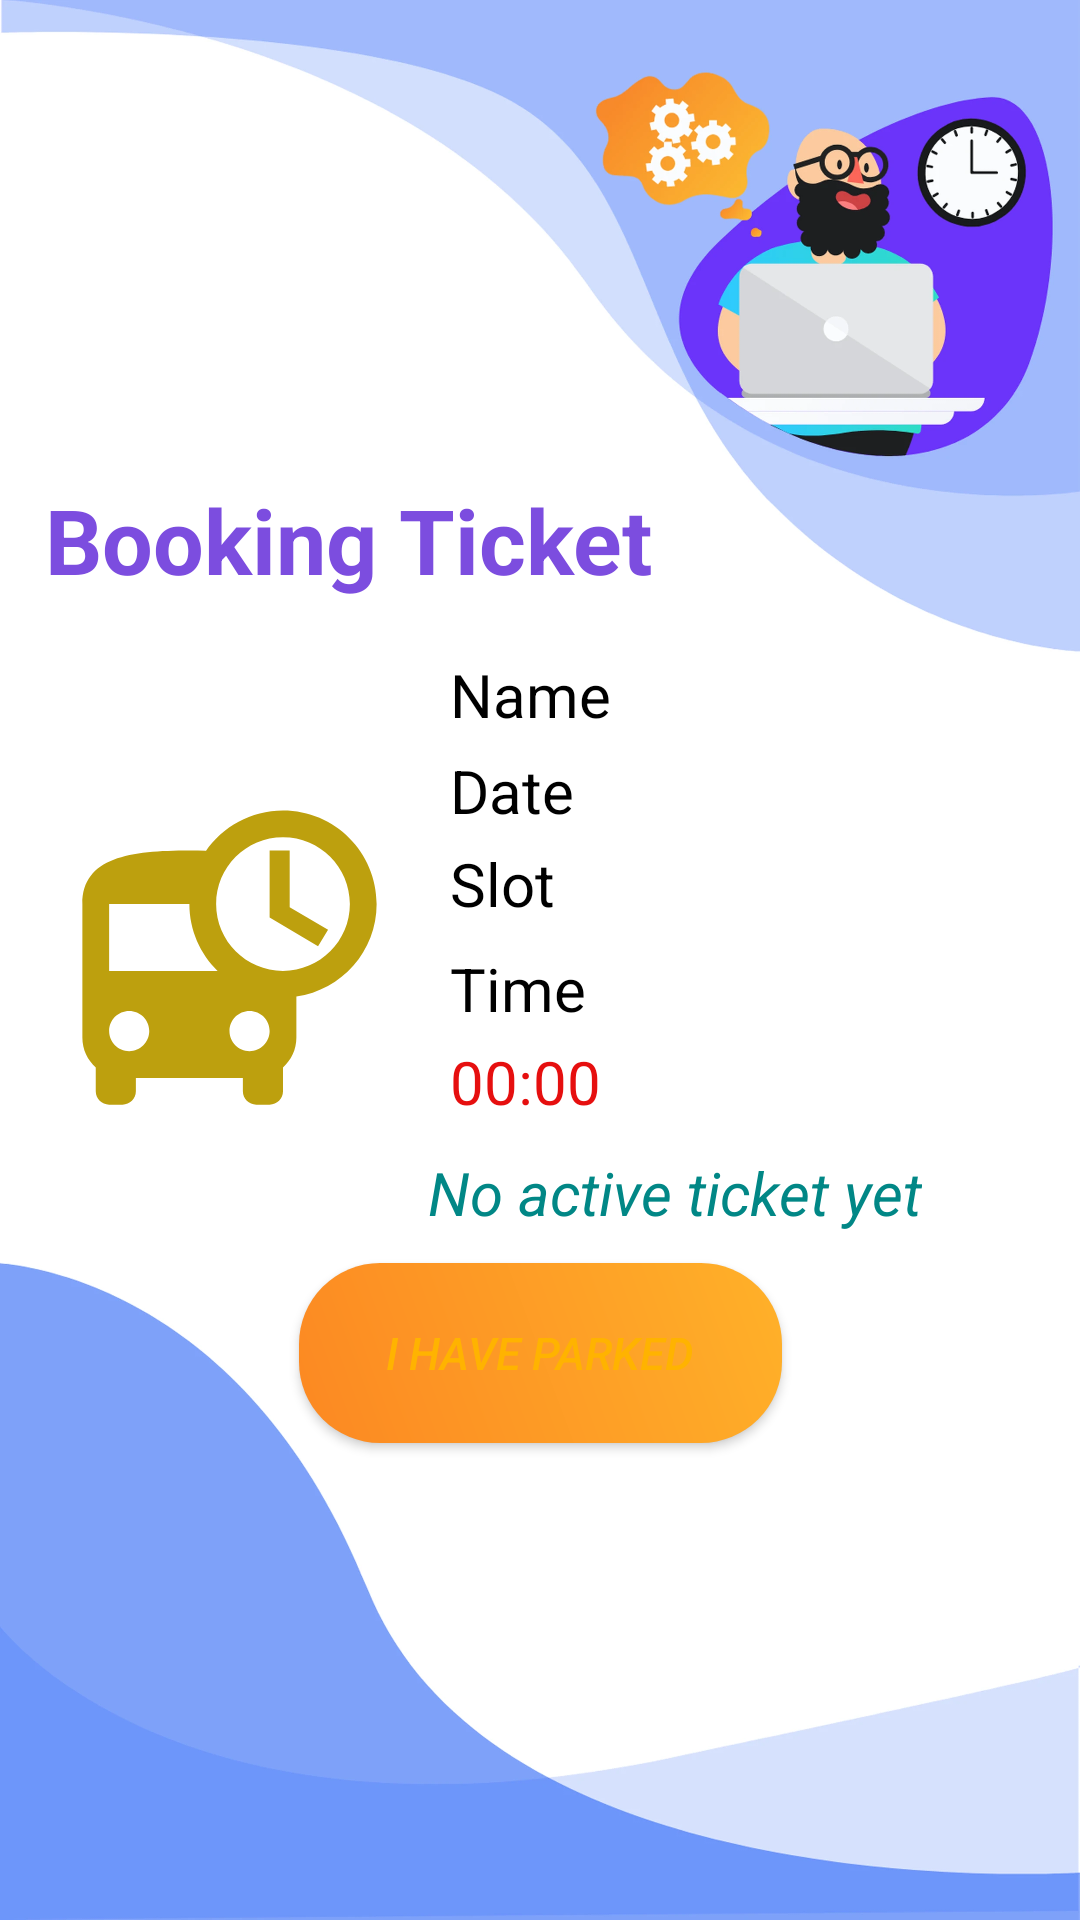

Locate icon controls on the screen. Image size 1080 x 1920, boxes as (x1,y1,x2,y2).
bookingpic: (82,810,377,1105)
